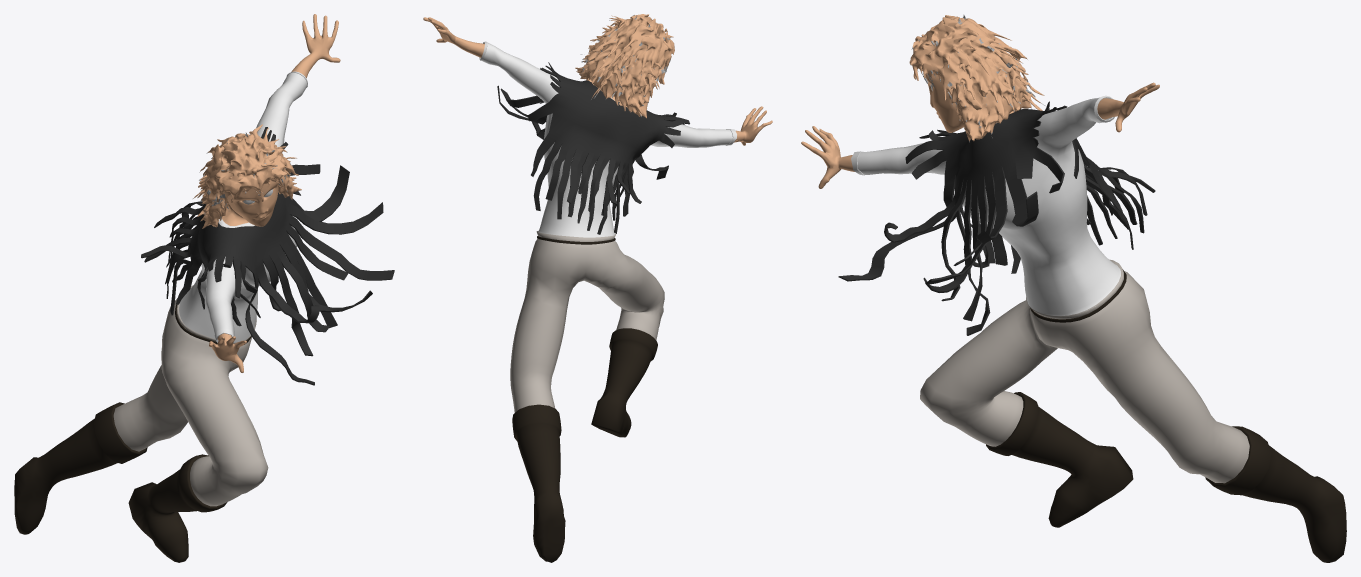
Rendered from Vin02.fbx.
3 renders of one model, left to right at view 1: azimuth 30°, elevation 25°; view 2: azimuth 150°, elevation 25°; view 3: azimuth 270°, elevation 25°, orthographic. The views are drawn at different scales.
Parts seen in each view (by area): view 1: Vin; view 2: Vin; view 3: Vin.
Part boxes in pixels (x1,y1,x2,y2): Vin: (14,14,394,562); Vin: (423,14,772,562); Vin: (801,14,1346,562).
Size of the model in its own units: 13.62 by 25.4 by 20.96.
